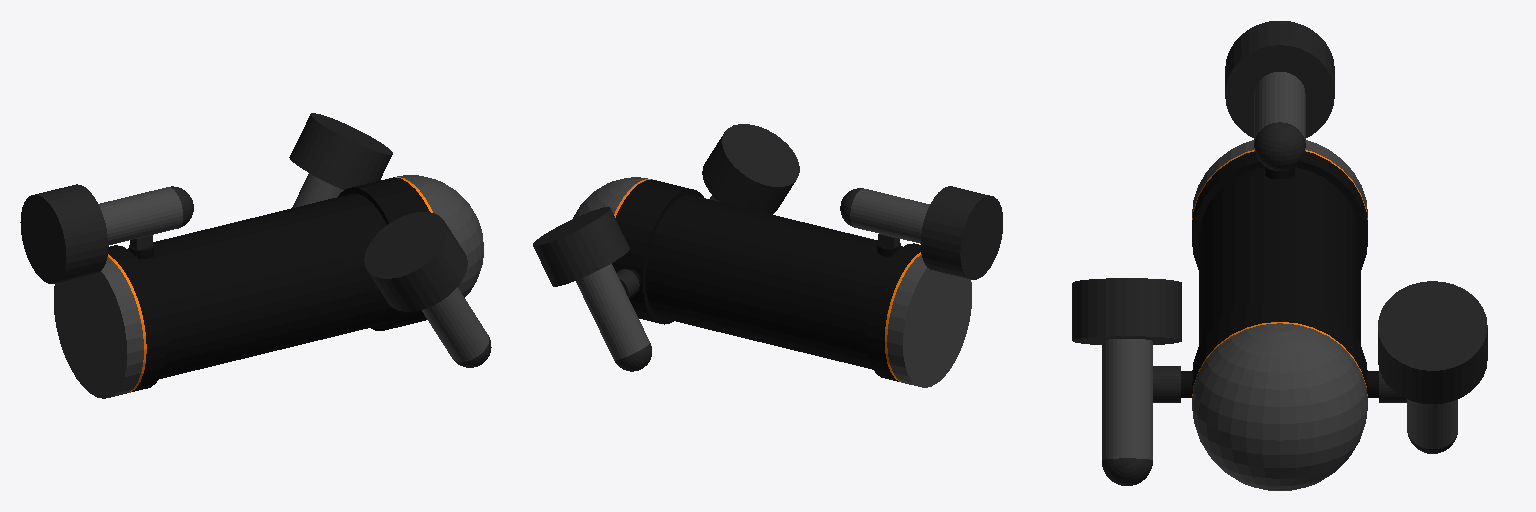
URDF robot description (jaws2):
<?xml version="1.0" ?>
<!-- =================================================================================== -->
<!-- |    This document was autogenerated by xacro from jaws2.urdf.xacro               | -->
<!-- |    EDITING THIS FILE BY HAND IS NOT RECOMMENDED                                 | -->
<!-- =================================================================================== -->
<robot name="jaws2" xmlns:xacro="http://ros.org/wiki/xacro">
  <!-- Port & Stbd Thruster Servo Shafts -->
  <!-- Aft Thruster Riser -->
  <!-- Housing -->
  <link name="base_link">
    <inertial>
      <mass value="1.8914"/>
      <inertia ixx="0.00921641" ixy="0.0" ixz="0.0" iyy="0.03285281" iyz="0.0" izz="0.03285281"/>
    </inertial>
  </link>
  <joint name="fwd_gasket_joint" type="fixed">
    <origin rpy="0 0 0" xyz="0.1794 0 0"/>
    <parent link="base_link"/>
    <child link="fwd_gasket"/>
  </joint>
  <link name="fwd_gasket">
    <inertial>
      <mass value="0.0165"/>
      <inertia ixx="0.00004790" ixy="0.0" ixz="0.0" iyy="0.00002397" iyz="0.0" izz="0.00002397"/>
    </inertial>
    <visual>
      <origin rpy="0 1.57079633 0" xyz="0 0 0"/>
      <geometry>
        <cylinder length="0.0032" radius="0.0762"/>
      </geometry>
      <material name="Orange"/>
    </visual>
    <collision>
      <origin rpy="0 1.57079633 0" xyz="0 0 0"/>
      <geometry>
        <cylinder length="0.0032" radius="0.0762"/>
      </geometry>
    </collision>
  </link>
  <joint name="dome_joint" type="fixed">
    <origin rpy="0 0 0" xyz="0.0016 0 0"/>
    <parent link="fwd_gasket"/>
    <child link="dome"/>
  </joint>
  <joint name="aft_gasket_joint" type="fixed">
    <origin rpy="0 0 0" xyz="-0.1794 0 0"/>
    <parent link="base_link"/>
    <child link="aft_gasket"/>
  </joint>
  <link name="aft_gasket">
    <inertial>
      <mass value="0.0165"/>
      <inertia ixx="0.00004790" ixy="0.0" ixz="0.0" iyy="0.00002397" iyz="0.0" izz="0.00002397"/>
    </inertial>
    <visual>
      <origin rpy="0 1.57079633 0" xyz="0 0 0"/>
      <geometry>
        <cylinder length="0.0032" radius="0.0762"/>
      </geometry>
      <material name="Orange"/>
    </visual>
    <collision>
      <origin rpy="0 1.57079633 0" xyz="0 0 0"/>
      <geometry>
        <cylinder length="0.0032" radius="0.0762"/>
      </geometry>
    </collision>
  </link>
  <joint name="endcap_joint" type="fixed">
    <origin rpy="0 0 0" xyz="-0.0116 0 0"/>
    <parent link="aft_gasket"/>
    <child link="endcap"/>
  </joint>
  <link name="dome">
    <inertial>
      <mass value="0.77"/>
      <inertia ixx="0.003" ixy="0.0" ixz="0.0" iyy="0.003" iyz="0.0" izz="0.003"/>
    </inertial>
    <visual>
      <geometry>
        <sphere radius="0.0762"/>
      </geometry>
      <material name="Grey"/>
    </visual>
    <collision>
      <geometry>
        <sphere radius="0.0762"/>
      </geometry>
    </collision>
  </link>
  <link name="endcap">
    <inertial>
      <mass value="0.1925"/>
      <inertia ixx="0.000" ixy="0.0" ixz="0.0" iyy="0.003" iyz="0.0" izz="0.003"/>
    </inertial>
    <visual>
      <origin rpy="0 1.57079633 0" xyz="0 0 0"/>
      <geometry>
        <cylinder length="0.02" radius="0.0762"/>
      </geometry>
      <material name="Grey"/>
    </visual>
    <collision>
      <origin rpy="0 1.57079633 0" xyz="0 0 0"/>
      <geometry>
        <cylinder length="0.02" radius="0.0762"/>
      </geometry>
    </collision>
  </link>
  <joint name="port_servo" type="revolute">
    <origin rpy="0 2.09439510667 0" xyz="0.142875 0.09763125 0"/>
    <parent link="base_link"/>
    <child link="port_servo_shaft"/>
    <axis xyz="0 1 0"/>
    <limit effort="1.4994" lower="0" upper="2.61799388333" velocity="1.9666"/>
  </joint>
  <link name="port_servo_shaft">
    <inertial>
      <mass value="0.02320847"/>
      <inertia ixx="0.00000444" ixy="0.0" ixz="0.0" iyy="0.00000506" iyz="0.0" izz="0.00000444"/>
    </inertial>
    <visual>
      <origin rpy="1.57079633 0 0" xyz="0 0 0"/>
      <geometry>
        <cylinder length="0.0238125" radius="0.01580619"/>
      </geometry>
      <material name="DarkGrey"/>
    </visual>
    <collision>
      <origin rpy="1.57079633 0 0" xyz="0 0 0"/>
      <geometry>
        <cylinder length="0.0238125" radius="0.01580619"/>
      </geometry>
    </collision>
  </link>
  <joint name="stbd_servo" type="revolute">
    <origin rpy="0 2.09439510667 3.14159266" xyz="0.142875 -0.09763125 0"/>
    <parent link="base_link"/>
    <child link="stbd_servo_shaft"/>
    <axis xyz="0 1 0"/>
    <limit effort="1.4994" lower="0" upper="2.61799388333" velocity="1.9666"/>
  </joint>
  <link name="stbd_servo_shaft">
    <inertial>
      <mass value="0.02320847"/>
      <inertia ixx="0.00000444" ixy="0.0" ixz="0.0" iyy="0.00000506" iyz="0.0" izz="0.00000444"/>
    </inertial>
    <visual>
      <origin rpy="1.57079633 0 0" xyz="0 0 0"/>
      <geometry>
        <cylinder length="0.0238125" radius="0.01580619"/>
      </geometry>
      <material name="DarkGrey"/>
    </visual>
    <collision>
      <origin rpy="1.57079633 0 0" xyz="0 0 0"/>
      <geometry>
        <cylinder length="0.0238125" radius="0.01580619"/>
      </geometry>
    </collision>
  </link>
  <link name="aft_thruster_riser">
    <inertial>
      <mass value="0.02320847"/>
      <inertia ixx="0.00000162" ixy="0.0" ixz="0.0" iyy="0.00000162" iyz="0.0" izz="0.00000262"/>
    </inertial>
    <visual>
      <geometry>
        <box size="0.0195 0.0143 0.0127"/>
      </geometry>
      <material name="DarkGrey"/>
    </visual>
    <collision>
      <geometry>
        <box size="0.026 0.026 0.0127"/>
      </geometry>
    </collision>
  </link>
  <joint name="aft_thruster_riser_joint" type="fixed">
    <origin rpy="0 0 0" xyz="-0.1397 0 0.0841375"/>
    <parent link="base_link"/>
    <child link="aft_thruster_riser"/>
  </joint>
  <!-- Main Housing Sections -->
  <joint name="fwd_housing_joint" type="fixed">
    <origin rpy="0 0 0" xyz="0.1659 0 0"/>
    <parent link="mid_housing"/>
    <child link="fwd_housing"/>
  </joint>
  <joint name="mid_housing_joint" type="fixed">
    <origin rpy="0 0 0" xyz="-0.0127 0 0"/>
    <parent link="base_link"/>
    <child link="mid_housing"/>
  </joint>
  <joint name="aft_housing_joint" type="fixed">
    <origin rpy="0 0 0" xyz="-0.1532 0 0"/>
    <parent link="mid_housing"/>
    <child link="aft_housing"/>
  </joint>
  <link name="fwd_housing">
    <visual>
      <origin rpy="0 1.57079633 0" xyz="0 0 0"/>
      <geometry>
        <cylinder length="0.0492" radius="0.0762"/>
      </geometry>
      <material name="FlatBlack"/>
    </visual>
  </link>
  <link name="mid_housing">
    <visual>
      <origin rpy="0 1.57079633 0" xyz="0 0 0"/>
      <geometry>
        <cylinder length="0.2826" radius="0.06985"/>
      </geometry>
      <material name="FlatBlack"/>
    </visual>
  </link>
  <link name="aft_housing">
    <visual>
      <origin rpy="0 1.57079633 0" xyz="0 0 0"/>
      <geometry>
        <cylinder length="0.0238" radius="0.0762"/>
      </geometry>
      <material name="FlatBlack"/>
    </visual>
  </link>
  <!-- Thruster Mounting Points -->
  <joint name="aft_thruster_mount_joint" type="fixed">
    <origin rpy="0 0 0" xyz="-0.1397 0 0.0714375"/>
    <parent link="base_link"/>
    <child link="aft_thruster_mount"/>
  </joint>
  <link name="aft_thruster_mount">
    <visual>
      <geometry>
        <cylinder length="0.0127" radius="0.013"/>
      </geometry>
      <material name="FlatBlack"/>
    </visual>
  </link>
  <joint name="port_thruster_mount_joint" type="fixed">
    <origin rpy="0 0 0" xyz="0.142875 0.07381875 0"/>
    <parent link="base_link"/>
    <child link="port_thruster_mount"/>
  </joint>
  <link name="port_thruster_mount">
    <visual>
      <origin rpy="1.57079633 0 0" xyz="0 0 0"/>
      <geometry>
        <cylinder length="0.0238125" radius="0.0118546425"/>
      </geometry>
      <material name="FlatBlack"/>
    </visual>
  </link>
  <joint name="stbd_thruster_mount_joint" type="fixed">
    <origin rpy="0 0 0" xyz="0.142875 -0.07381875 0"/>
    <parent link="base_link"/>
    <child link="stbd_thruster_mount"/>
  </joint>
  <link name="stbd_thruster_mount">
    <visual>
      <origin rpy="1.57079633 0 0" xyz="0 0 0"/>
      <geometry>
        <cylinder length="0.0238125" radius="0.0118546425"/>
      </geometry>
      <material name="FlatBlack"/>
    </visual>
  </link>
  <!-- URDF Materials -->
  <material name="FlatBlack">
    <color rgba="0.1 0.1 0.1 1.0"/>
  </material>
  <material name="DarkGrey">
    <color rgba="0.175 0.175 0.175 1.0"/>
  </material>
  <material name="Grey">
    <color rgba="0.3 0.3 0.3 1.0"/>
  </material>
  <material name="GreyTransparent">
    <color rgba="0.5 0.5 0.5 0.5"/>
  </material>
  <material name="Orange">
    <color rgba="1 0.5088 0.0468 1"/>
  </material>
  <!--  Gazebo  -->
  <gazebo>
    <!--  Buoyancy  -->
    <plugin filename="libBuoyancyPlugin.so" name="BuoyancyPlugin"/>
    <!--
          <link name="dome">
            <center_of_volume>${dome_volume_ctr}</center_of_volume>
            <volume>${dome_volume}</volume>
          </link>
-->
    <!--  Controls  -->
    <plugin filename="libgazebo_ros_force.so" name="gazebo_ros_force">
      <bodyName>aft_thruster</bodyName>
      <topicName>aft_thrust</topicName>
    </plugin>
    <plugin filename="libgazebo_ros_force.so" name="gazebo_ros_force">
      <bodyName>port_thruster</bodyName>
      <topicName>port_thrust</topicName>
    </plugin>
    <plugin filename="libgazebo_ros_force.so" name="gazebo_ros_force">
      <bodyName>stbd_thruster</bodyName>
      <topicName>stbd_thrust</topicName>
    </plugin>
  </gazebo>
  <!--  Simulation Materials  -->
  <gazebo reference="dome">
    <material>Gazebo/Grey</material>
  </gazebo>
  <gazebo reference="mid_housing">
    <material>Gazebo/FlatBlack</material>
  </gazebo>
  <gazebo reference="endcap">
    <material>Gazebo/Grey</material>
  </gazebo>
  <gazebo reference="aft_thruster_mount">
    <material>Gazebo/FlatBlack</material>
  </gazebo>
  <gazebo reference="aft_thruster_riser">
    <material>Gazebo/DarkGrey</material>
  </gazebo>
  <gazebo reference="fwd_housing">
    <material>Gazebo/FlatBlack</material>
  </gazebo>
  <gazebo reference="fwd_gasket">
    <material>Gazebo/Orange</material>
  </gazebo>
  <gazebo reference="port_thruster_mount">
    <material>Gazebo/FlatBlack</material>
  </gazebo>
  <gazebo reference="port_servo_shaft">
    <material>Gazebo/DarkGrey</material>
  </gazebo>
  <gazebo reference="aft_housing">
    <material>Gazebo/FlatBlack</material>
  </gazebo>
  <gazebo reference="aft_gasket">
    <material>Gazebo/Orange</material>
  </gazebo>
  <gazebo reference="stbd_thruster_mount">
    <material>Gazebo/FlatBlack</material>
  </gazebo>
  <gazebo reference="stbd_servo_shaft">
    <material>Gazebo/DarkGrey</material>
  </gazebo>
  <!-- http://www.seabotix.com/products/pdf_files/BTD150_Data_Sheet.pdf -->
  <gazebo reference="port_thruster">
    <material>Gazebo/Grey</material>
  </gazebo>
  <gazebo reference="port_thruster_nose_cone">
    <material>Gazebo/DarkGrey</material>
  </gazebo>
  <gazebo reference="port_thruster_nozzle">
    <material>Gazebo/DarkGrey</material>
  </gazebo>
  <gazebo reference="stbd_thruster">
    <material>Gazebo/Grey</material>
  </gazebo>
  <gazebo reference="stbd_thruster_nose_cone">
    <material>Gazebo/DarkGrey</material>
  </gazebo>
  <gazebo reference="stbd_thruster_nozzle">
    <material>Gazebo/DarkGrey</material>
  </gazebo>
  <gazebo reference="aft_thruster">
    <material>Gazebo/Grey</material>
  </gazebo>
  <gazebo reference="aft_thruster_nose_cone">
    <material>Gazebo/DarkGrey</material>
  </gazebo>
  <gazebo reference="aft_thruster_nozzle">
    <material>Gazebo/DarkGrey</material>
  </gazebo>
  <!-- Build the Thrusters -->
  <link name="port_thruster">
    <inertial>
      <mass value="0.709"/>
      <inertia ixx="0.00017511" ixy="0.0000" ixz="0.0000" iyy="0.00191980" iyz="0.0000" izz="0.00191980"/>
    </inertial>
    <visual>
      <origin rpy="0 1.57079633 0" xyz="0 0 0"/>
      <geometry>
        <cylinder length="0.13165" radius="0.022225"/>
      </geometry>
      <material name="Grey"/>
    </visual>
    <collision>
      <origin rpy="0 1.57079633 0" xyz="0 0 0"/>
      <geometry>
        <cylinder length="0.1761" radius="0.022225"/>
      </geometry>
    </collision>
  </link>
  <link name="port_thruster_nose_cone">
    <visual>
      <geometry>
        <sphere radius="0.022225"/>
      </geometry>
      <material name="DarkGrey"/>
    </visual>
  </link>
  <link name="port_thruster_nozzle">
    <visual>
      <origin rpy="0 1.57079633 0" xyz="0 0 0"/>
      <geometry>
        <cylinder length="0.0503" radius="0.0474"/>
      </geometry>
      <material name="DarkGrey"/>
    </visual>
  </link>
  <joint name="port_thruster_nose_cone" type="fixed">
    <origin rpy="0 0 0" xyz="0.065825 0 0"/>
    <parent link="port_thruster"/>
    <child link="port_thruster_nose_cone"/>
  </joint>
  <joint name="port_thruster_nozzle" type="fixed">
    <origin rpy="0 0 0" xyz="-0.0629 0 0"/>
    <parent link="port_thruster"/>
    <child link="port_thruster_nozzle"/>
  </joint>
  <link name="stbd_thruster">
    <inertial>
      <mass value="0.709"/>
      <inertia ixx="0.00017511" ixy="0.0000" ixz="0.0000" iyy="0.00191980" iyz="0.0000" izz="0.00191980"/>
    </inertial>
    <visual>
      <origin rpy="0 1.57079633 0" xyz="0 0 0"/>
      <geometry>
        <cylinder length="0.13165" radius="0.022225"/>
      </geometry>
      <material name="Grey"/>
    </visual>
    <collision>
      <origin rpy="0 1.57079633 0" xyz="0 0 0"/>
      <geometry>
        <cylinder length="0.1761" radius="0.022225"/>
      </geometry>
    </collision>
  </link>
  <link name="stbd_thruster_nose_cone">
    <visual>
      <geometry>
        <sphere radius="0.022225"/>
      </geometry>
      <material name="DarkGrey"/>
    </visual>
  </link>
  <link name="stbd_thruster_nozzle">
    <visual>
      <origin rpy="0 1.57079633 0" xyz="0 0 0"/>
      <geometry>
        <cylinder length="0.0503" radius="0.0474"/>
      </geometry>
      <material name="DarkGrey"/>
    </visual>
  </link>
  <joint name="stbd_thruster_nose_cone" type="fixed">
    <origin rpy="0 0 0" xyz="0.065825 0 0"/>
    <parent link="stbd_thruster"/>
    <child link="stbd_thruster_nose_cone"/>
  </joint>
  <joint name="stbd_thruster_nozzle" type="fixed">
    <origin rpy="0 0 0" xyz="-0.0629 0 0"/>
    <parent link="stbd_thruster"/>
    <child link="stbd_thruster_nozzle"/>
  </joint>
  <link name="aft_thruster">
    <inertial>
      <mass value="0.709"/>
      <inertia ixx="0.00017511" ixy="0.0000" ixz="0.0000" iyy="0.00191980" iyz="0.0000" izz="0.00191980"/>
    </inertial>
    <visual>
      <origin rpy="0 1.57079633 0" xyz="0 0 0"/>
      <geometry>
        <cylinder length="0.13165" radius="0.022225"/>
      </geometry>
      <material name="Grey"/>
    </visual>
    <collision>
      <origin rpy="0 1.57079633 0" xyz="0 0 0"/>
      <geometry>
        <cylinder length="0.1761" radius="0.022225"/>
      </geometry>
    </collision>
  </link>
  <link name="aft_thruster_nose_cone">
    <visual>
      <geometry>
        <sphere radius="0.022225"/>
      </geometry>
      <material name="DarkGrey"/>
    </visual>
  </link>
  <link name="aft_thruster_nozzle">
    <visual>
      <origin rpy="0 1.57079633 0" xyz="0 0 0"/>
      <geometry>
        <cylinder length="0.0503" radius="0.0474"/>
      </geometry>
      <material name="DarkGrey"/>
    </visual>
  </link>
  <joint name="aft_thruster_nose_cone" type="fixed">
    <origin rpy="0 0 0" xyz="0.065825 0 0"/>
    <parent link="aft_thruster"/>
    <child link="aft_thruster_nose_cone"/>
  </joint>
  <joint name="aft_thruster_nozzle" type="fixed">
    <origin rpy="0 0 0" xyz="-0.0629 0 0"/>
    <parent link="aft_thruster"/>
    <child link="aft_thruster_nozzle"/>
  </joint>
  <!-- Attach the Thrusters -->
  <joint name="port_thruster_joint" type="fixed">
    <origin rpy="0 0 0" xyz="0 0.03413125 0"/>
    <parent link="port_servo_shaft"/>
    <child link="port_thruster"/>
  </joint>
  <joint name="stbd_thruster_joint" type="fixed">
    <origin rpy="0 0 0" xyz="0 0.03413125 0"/>
    <parent link="stbd_servo_shaft"/>
    <child link="stbd_thruster"/>
  </joint>
  <joint name="aft_thruster_joint" type="fixed">
    <origin rpy="0 0 0" xyz="-0.0293125 0 0.028575"/>
    <parent link="aft_thruster_riser"/>
    <child link="aft_thruster"/>
  </joint>
</robot>

--- Render facts (derived) ---
3 views of the same robot in one strip: view 1: azimuth 30°, elevation 25°; view 2: azimuth 150°, elevation 25°; view 3: azimuth 270°, elevation 25° (orthographic).
Robot: jaws2 — 23 links, 22 joints (2 revolute, 20 fixed); root link base_link; default pose: all joints at 0.
Links seen in each view (by area): view 1: mid_housing, endcap, stbd_thruster_nozzle, aft_thruster_nozzle, port_thruster_nozzle, aft_thruster, dome, aft_housing, stbd_thruster, fwd_housing, port_thruster; view 2: mid_housing, endcap, stbd_thruster_nozzle, aft_thruster_nozzle, port_thruster_nozzle, fwd_housing, port_thruster, aft_thruster, aft_housing, dome, port_thruster_nose_cone; view 3: dome, mid_housing, port_thruster_nozzle, aft_thruster_nozzle, stbd_thruster_nozzle, stbd_thruster, fwd_housing, aft_housing, aft_thruster, port_thruster, aft_thruster_nose_cone, endcap (+2 smaller).
Link boxes in pixels (x1,y1,x2,y2): mid_housing: (128,193,395,378); endcap: (54,257,143,398); stbd_thruster_nozzle: (364,212,467,311); aft_thruster_nozzle: (20,184,108,283); port_thruster_nozzle: (289,113,392,189); aft_thruster: (99,187,182,244); dome: (397,175,483,297); aft_housing: (108,245,166,391); stbd_thruster: (422,287,488,361); fwd_housing: (338,177,429,330); port_thruster: (292,173,343,207); mid_housing: (646,195,902,369); endcap: (887,254,971,387); stbd_thruster_nozzle: (702,124,799,214); aft_thruster_nozzle: (921,186,1002,279); port_thruster_nozzle: (533,207,629,286); fwd_housing: (612,179,703,324); port_thruster: (576,263,649,360); aft_thruster: (850,189,929,243); aft_housing: (866,243,920,381); dome: (573,177,647,218); port_thruster_nose_cone: (615,343,651,371); dome: (1192,323,1367,490); mid_housing: (1199,167,1360,344); port_thruster_nozzle: (1378,281,1487,403); aft_thruster_nozzle: (1225,21,1334,137); stbd_thruster_nozzle: (1072,278,1181,344); stbd_thruster: (1102,339,1152,459); fwd_housing: (1192,298,1367,393); aft_housing: (1192,151,1367,269); aft_thruster: (1254,72,1305,142); port_thruster: (1407,399,1457,448); aft_thruster_nose_cone: (1254,122,1305,170); endcap: (1192,140,1367,217).
Size in the robot's own frame: 0.5143 by 0.3583 by 0.2393 metres.
Geometry: primitives only (box / cylinder / sphere), no mesh files.
